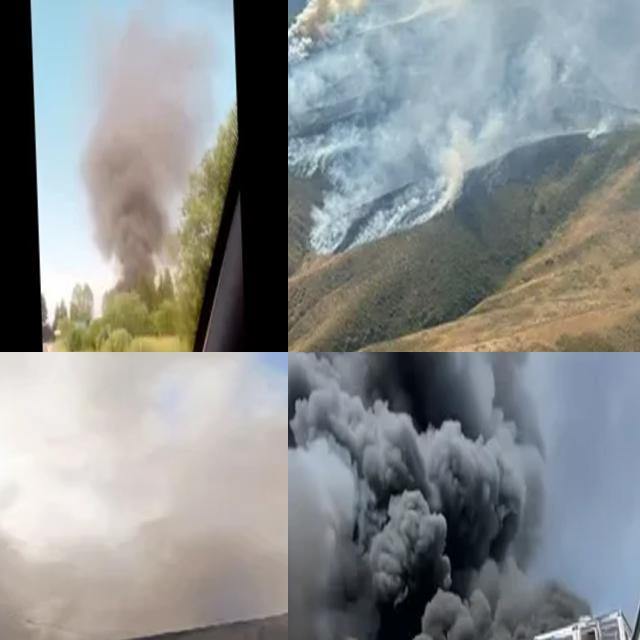smoke: (288, 0, 640, 257), (0, 352, 288, 640), (288, 352, 558, 640), (73, 12, 217, 297)
